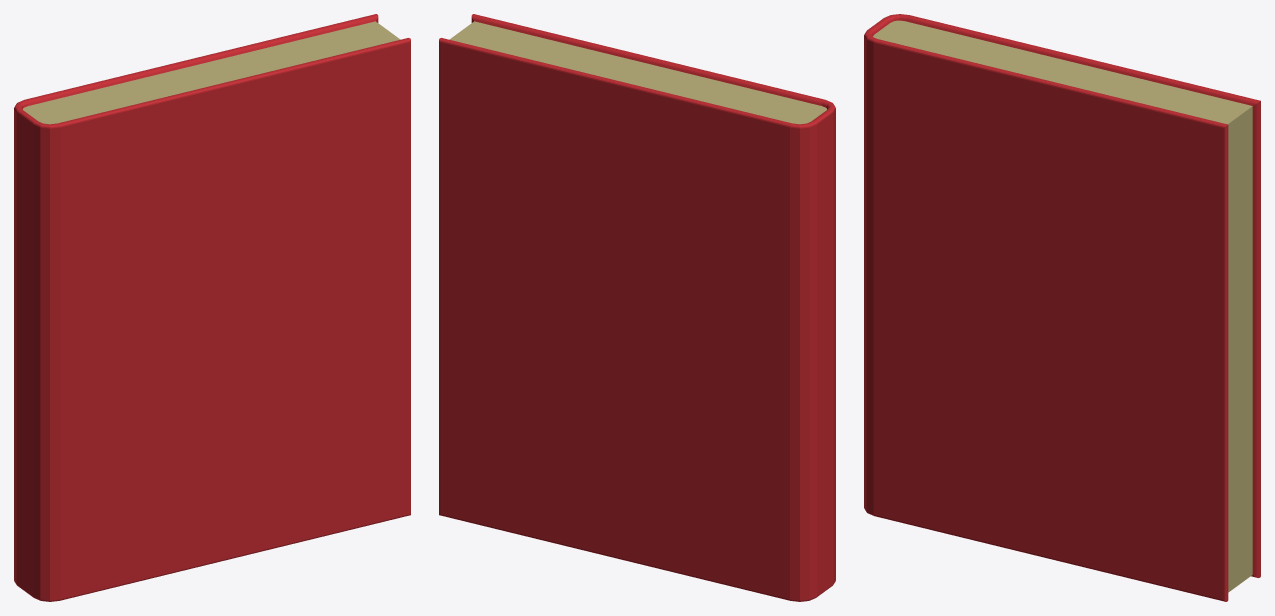
Rendered from recipeBook.fbx.
3 renders of one model, left to right at view 1: azimuth 30°, elevation 25°; view 2: azimuth 150°, elevation 25°; view 3: azimuth 330°, elevation 25°, orthographic.
Visible parts, largest first — view 1: Cube; view 2: Cube; view 3: Cube.
Part boxes in pixels (box(x1,y1,x2,y2)): Cube: box(14, 14, 410, 601); Cube: box(439, 14, 835, 601); Cube: box(864, 14, 1260, 601).
Size of the model in its own units: 133 by 164 by 22.58.
